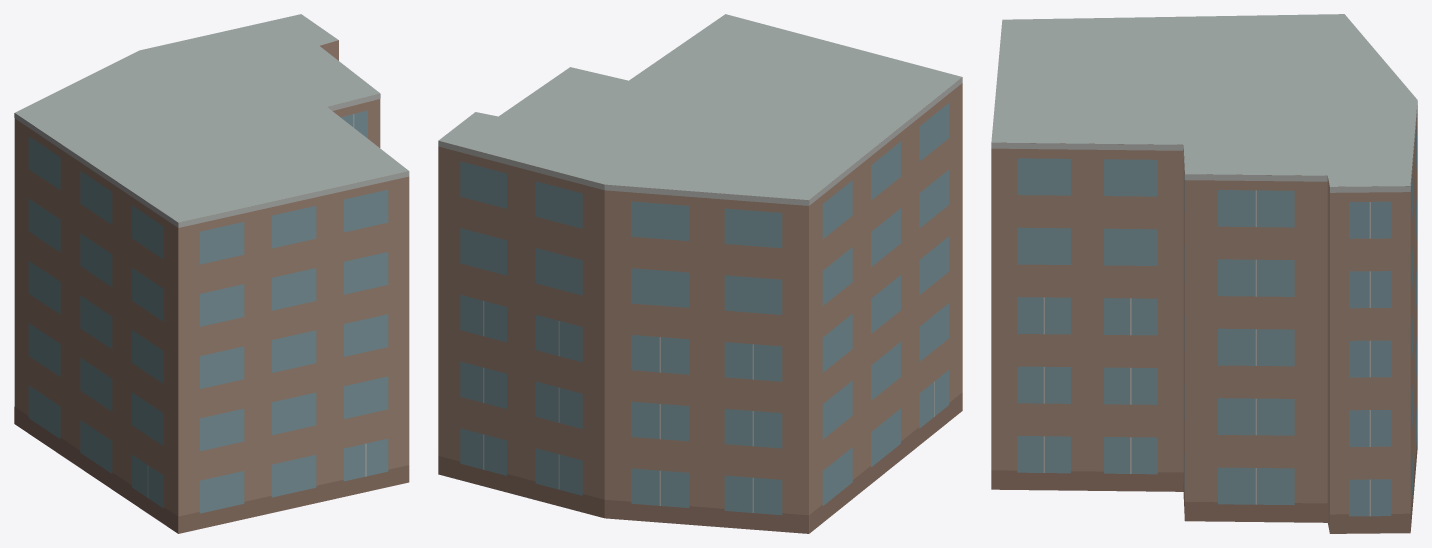
Rendered from survey-upis-32628104.glb.
The picture shows the model from 3 angles, left to right: view 1: azimuth 30°, elevation 25°; view 2: azimuth 150°, elevation 25°; view 3: azimuth 270°, elevation 25°; orthographic projection. The views are drawn at different scales.
Parts seen in each view (by area): view 1: survey-upis-32628104.tmp; view 2: survey-upis-32628104.tmp; view 3: survey-upis-32628104.tmp.
Part boxes in pixels (box(x1,y1,x2,y2)): survey-upis-32628104.tmp: box(14, 14, 409, 533); survey-upis-32628104.tmp: box(438, 14, 962, 533); survey-upis-32628104.tmp: box(991, 14, 1417, 533).
Bounding box in the file's own units: 15.07 × 14.1 × 15.71.
